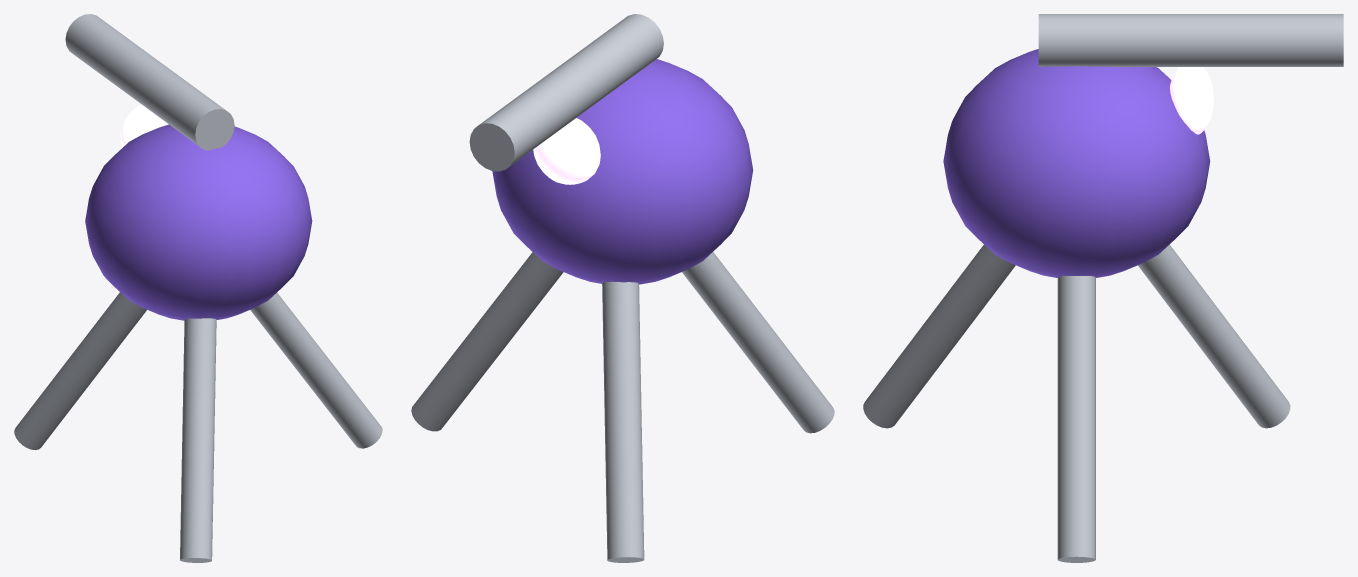
Rendered from prop_turret.glb.
3 views of the same model, side by side, from view 1: azimuth 30°, elevation 25°; view 2: azimuth 150°, elevation 25°; view 3: azimuth 270°, elevation 25° (orthographic). The views are drawn at different scales.
Visible parts, largest first — view 1: Head, Barrel, Leg2, Leg1, Leg0, Eye; view 2: Head, Barrel, Leg1, Leg2, Leg0, Eye; view 3: Head, Barrel, Leg0, Leg1, Leg2, Eye.
Boxes of the visible parts, left/top/right/bottom form: Head: left=85, top=124, right=312, bottom=320; Barrel: left=65, top=14, right=234, bottom=150; Leg2: left=180, top=318, right=216, bottom=562; Leg1: left=14, top=292, right=146, bottom=450; Leg0: left=250, top=292, right=382, bottom=448; Eye: left=120, top=104, right=168, bottom=147; Head: left=492, top=59, right=753, bottom=284; Barrel: left=469, top=14, right=663, bottom=171; Leg1: left=602, top=281, right=644, bottom=562; Leg2: left=682, top=252, right=834, bottom=433; Leg0: left=411, top=252, right=563, bottom=431; Eye: left=533, top=118, right=600, bottom=184; Head: left=943, top=49, right=1210, bottom=277; Barrel: left=1038, top=14, right=1343, bottom=66; Leg0: left=1057, top=276, right=1095, bottom=562; Leg1: left=1138, top=244, right=1290, bottom=428; Leg2: left=863, top=245, right=1015, bottom=428; Eye: left=1170, top=67, right=1213, bottom=134.
Bounding box in the file's own units: 1 × 1.32 × 1.26.
